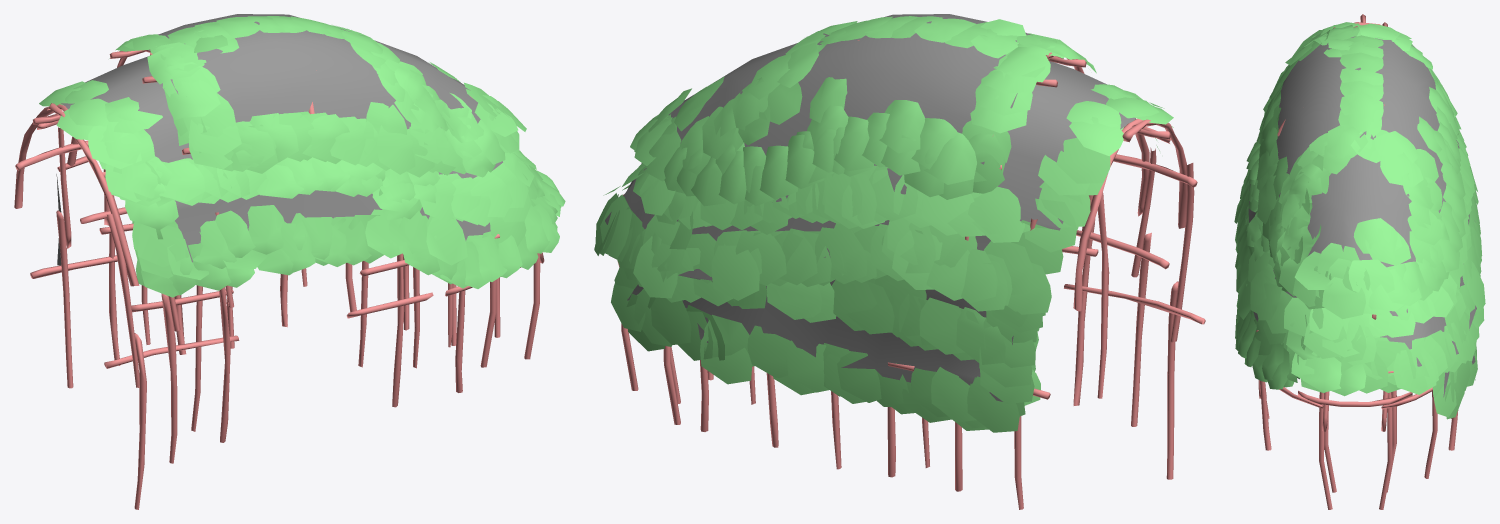
Rendered from SM_village_hut_small_A.gltf.
3 renders of one model, left to right at view 1: azimuth 30°, elevation 25°; view 2: azimuth 150°, elevation 25°; view 3: azimuth 270°, elevation 25°, orthographic. The views are drawn at different scales.
Parts seen in each view (by area): view 1: SM_village_hut_small_A; view 2: SM_village_hut_small_A; view 3: SM_village_hut_small_A.
Boxes of the visible parts, <box> form: SM_village_hut_small_A: <box>14,14,565,509</box>; SM_village_hut_small_A: <box>594,14,1205,509</box>; SM_village_hut_small_A: <box>1234,14,1485,509</box>.
Size of the model in its own units: 12.96 by 9.89 by 6.33.
